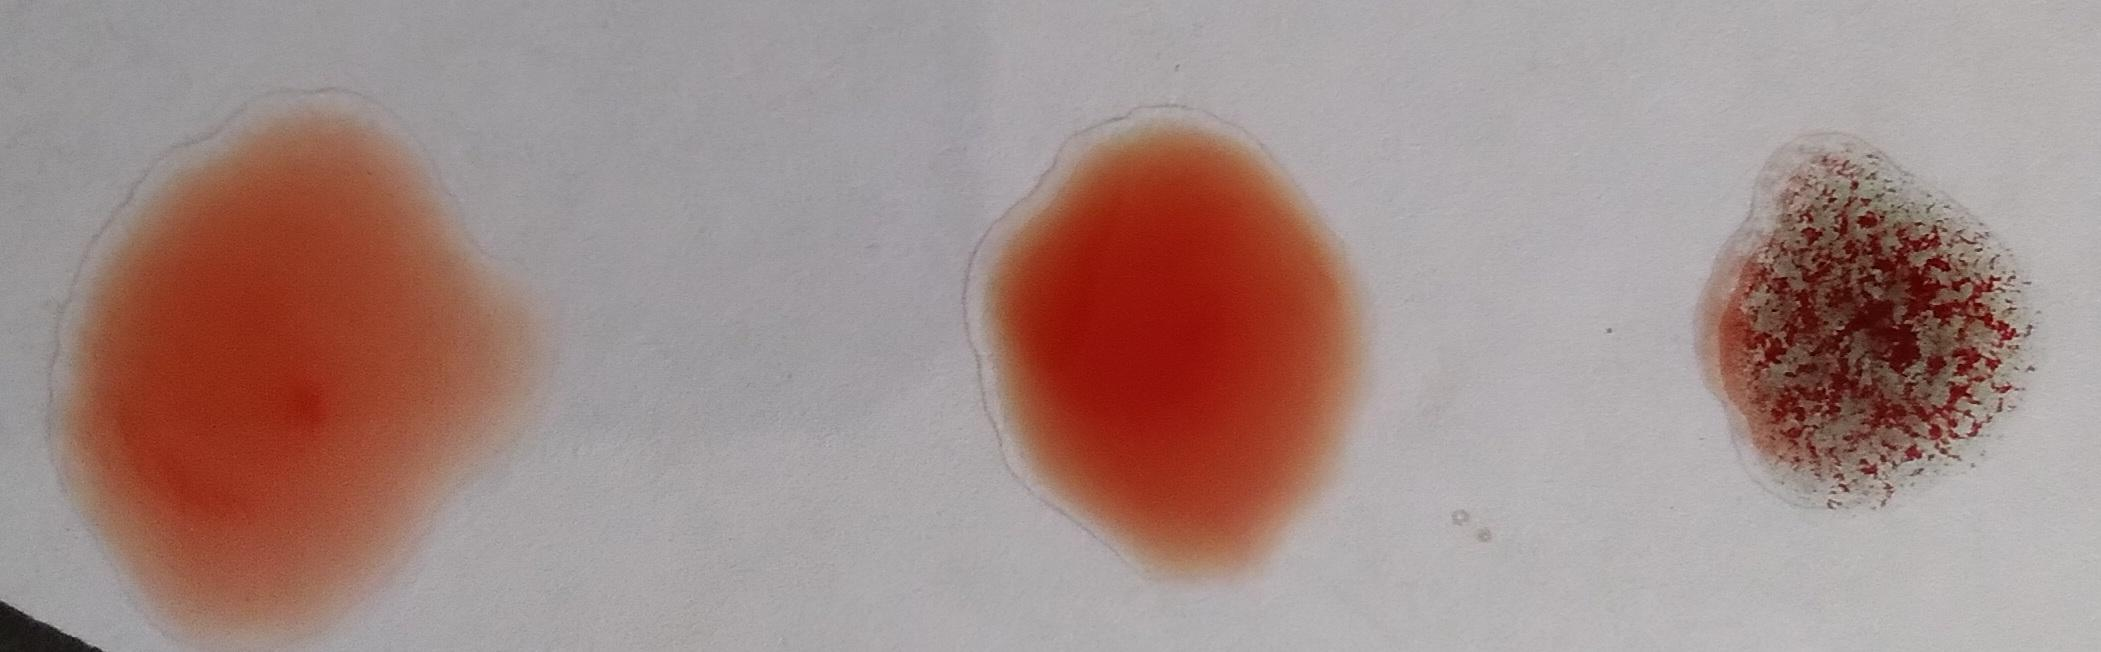A: (1680, 142, 2046, 523)
